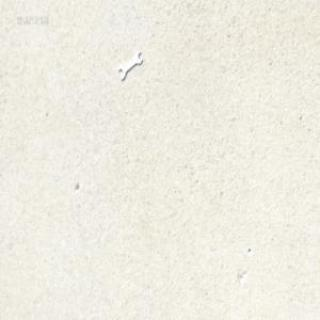Wrenchtrack_idkeyframe: (118, 53, 141, 83)
